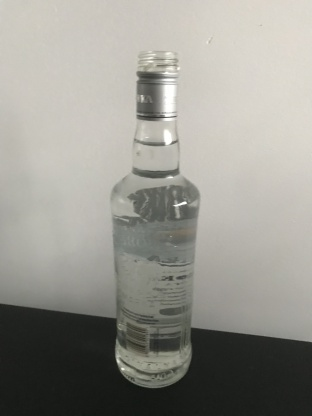nakretka: (134, 47, 180, 122)
